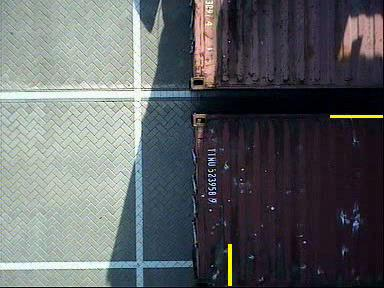groundmarker_2: (109, 89, 174, 136), (108, 261, 170, 288)
